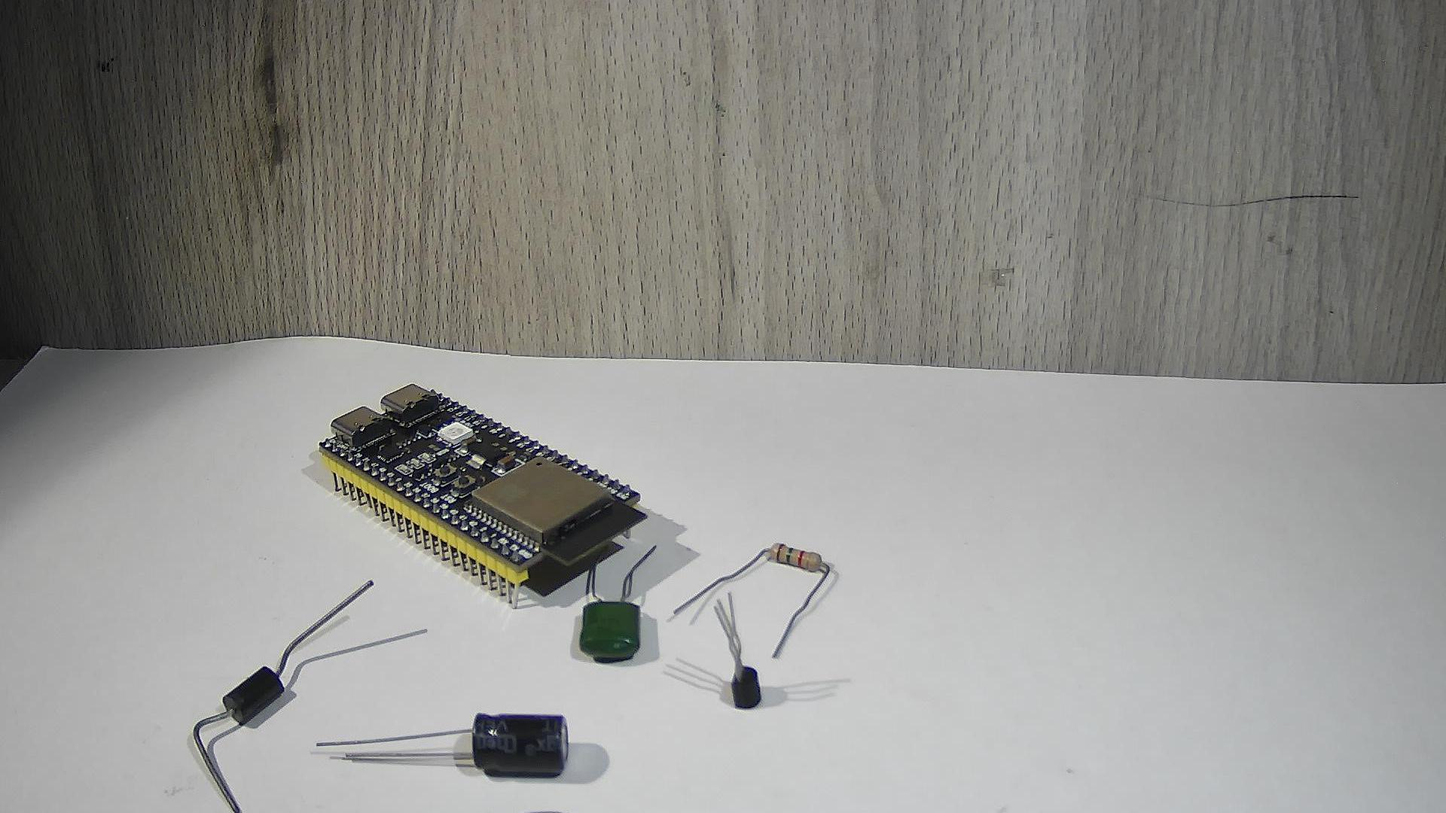Capacitor: (310, 711, 578, 784)
Diodo: (162, 619, 303, 804)
ESP32: (287, 387, 668, 612)
Resistencia: (725, 535, 837, 587)
Transistor: (676, 600, 780, 718)
capacitor ceramico: (566, 526, 670, 673)
